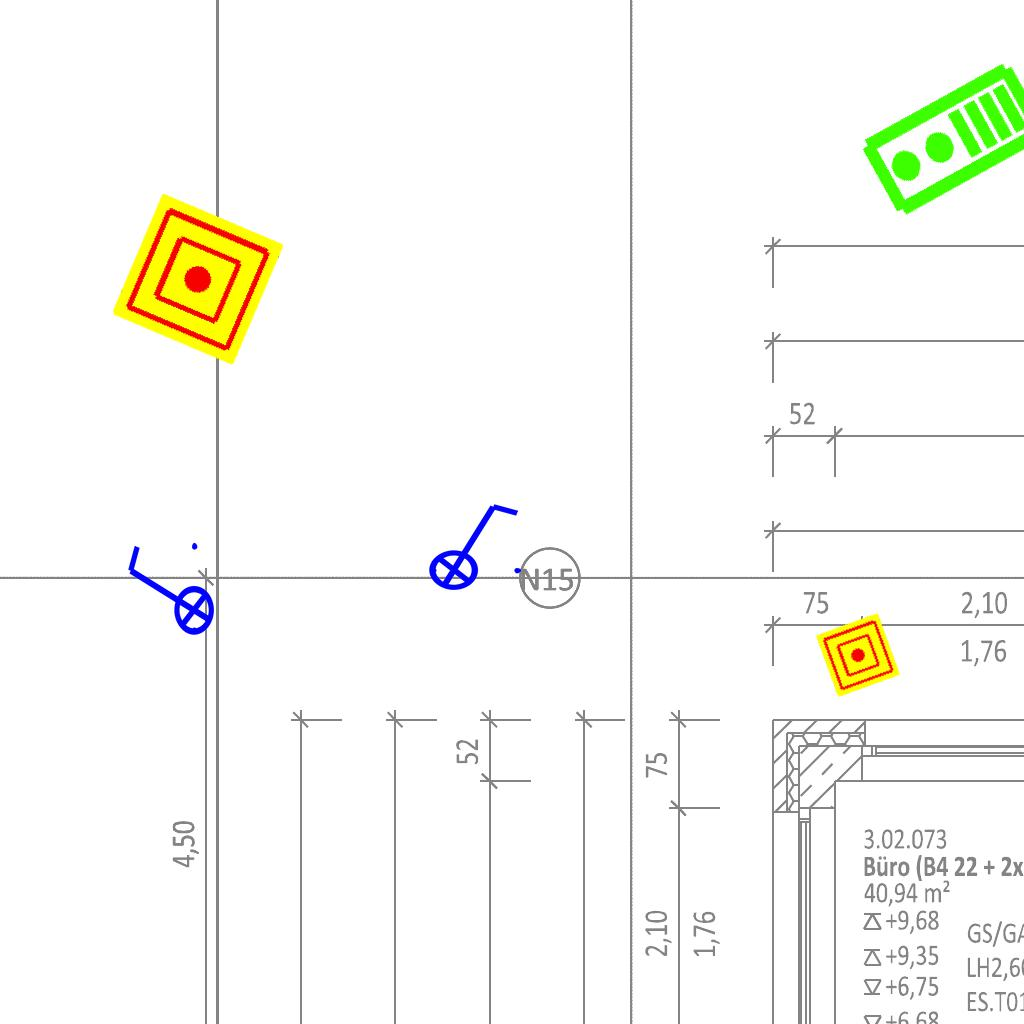Ausschalter_beleuchtet: (120, 537, 216, 649), (415, 496, 527, 592)
Gegensprechanlage_mit_Video: (854, 56, 1024, 226)
NAM-Nichtautomatischer_Melder: (111, 192, 285, 366), (815, 612, 901, 698)
